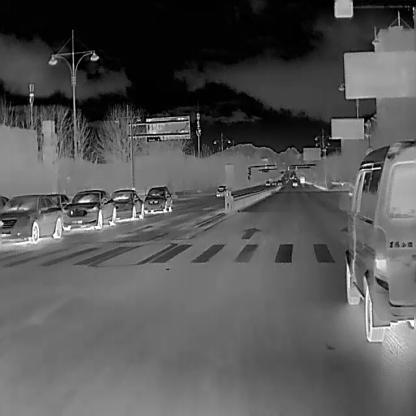car: (338, 138, 414, 341), (0, 192, 62, 240), (62, 189, 116, 229), (112, 188, 146, 218), (143, 184, 172, 212), (215, 182, 228, 196), (299, 174, 304, 183), (291, 179, 297, 185), (264, 179, 270, 185), (277, 179, 282, 185), (271, 180, 276, 184)
